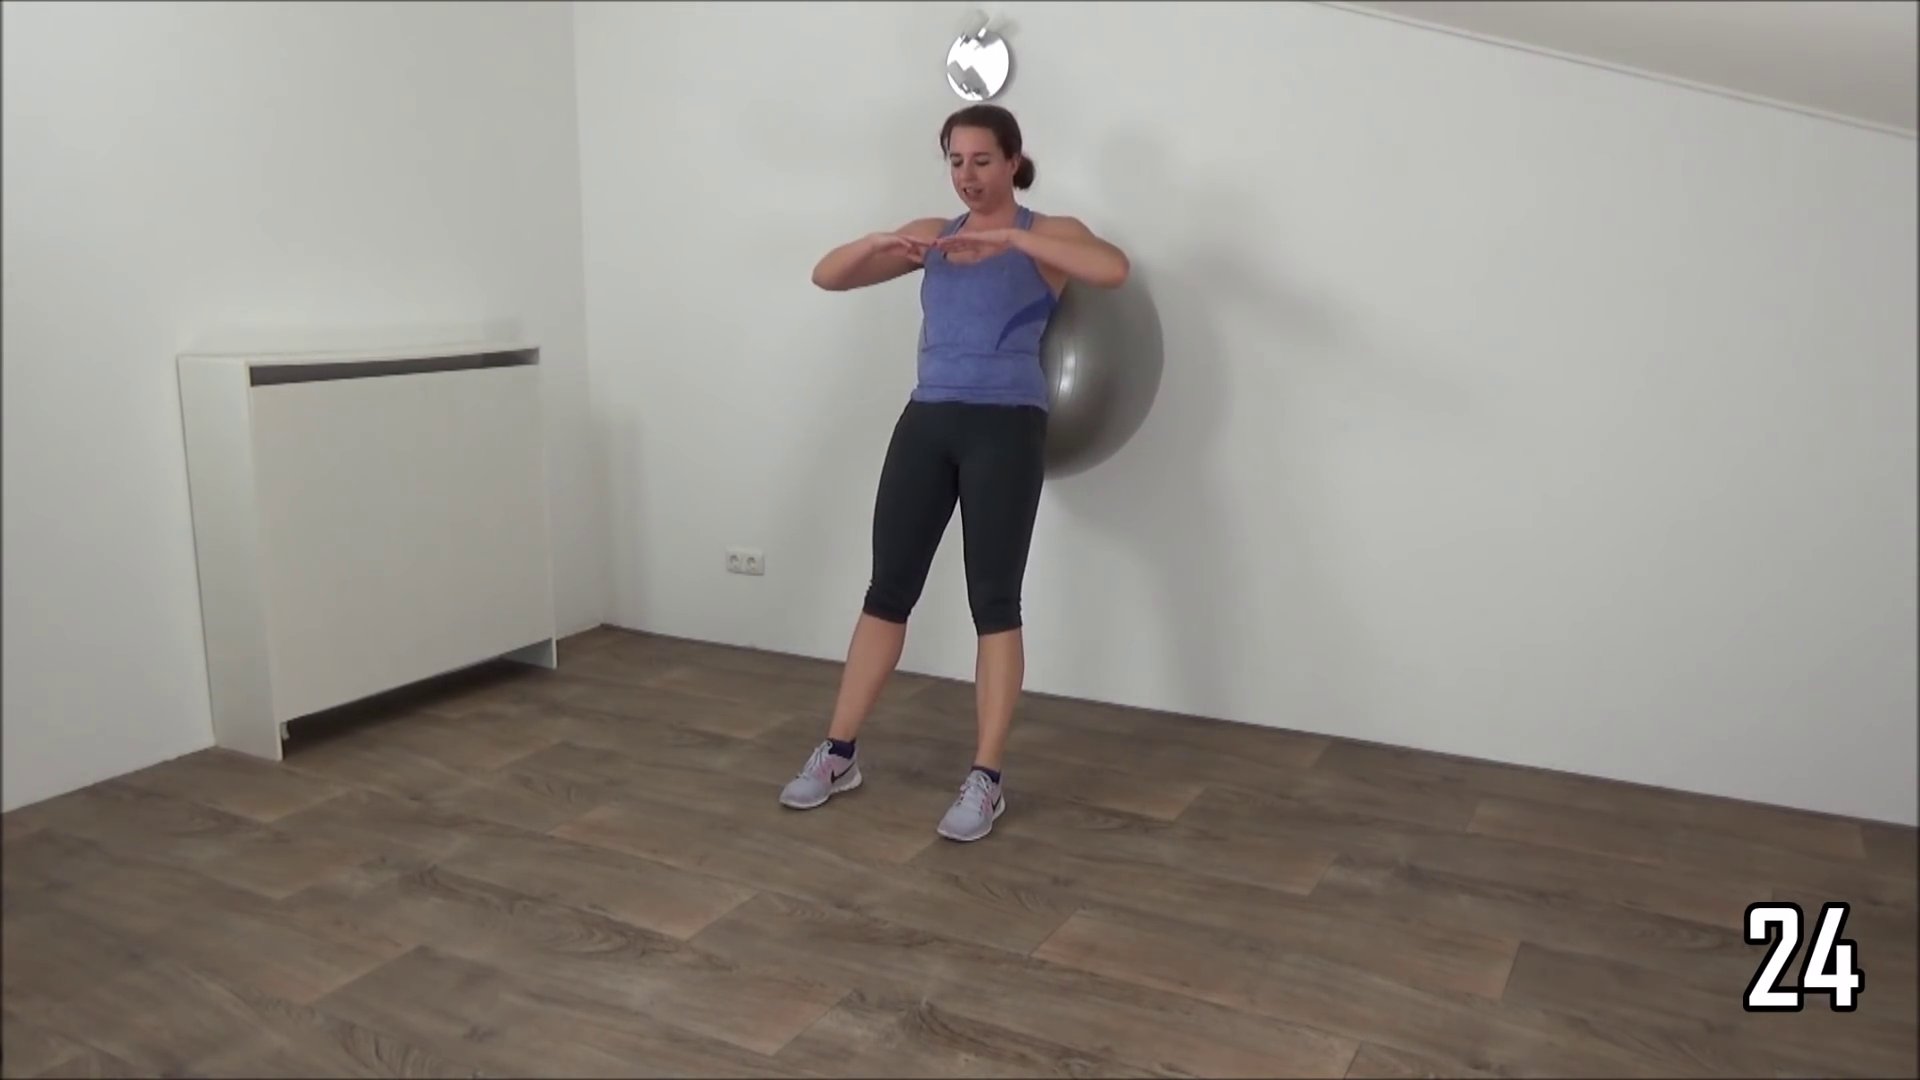yogaball: (949, 249, 1141, 492)
